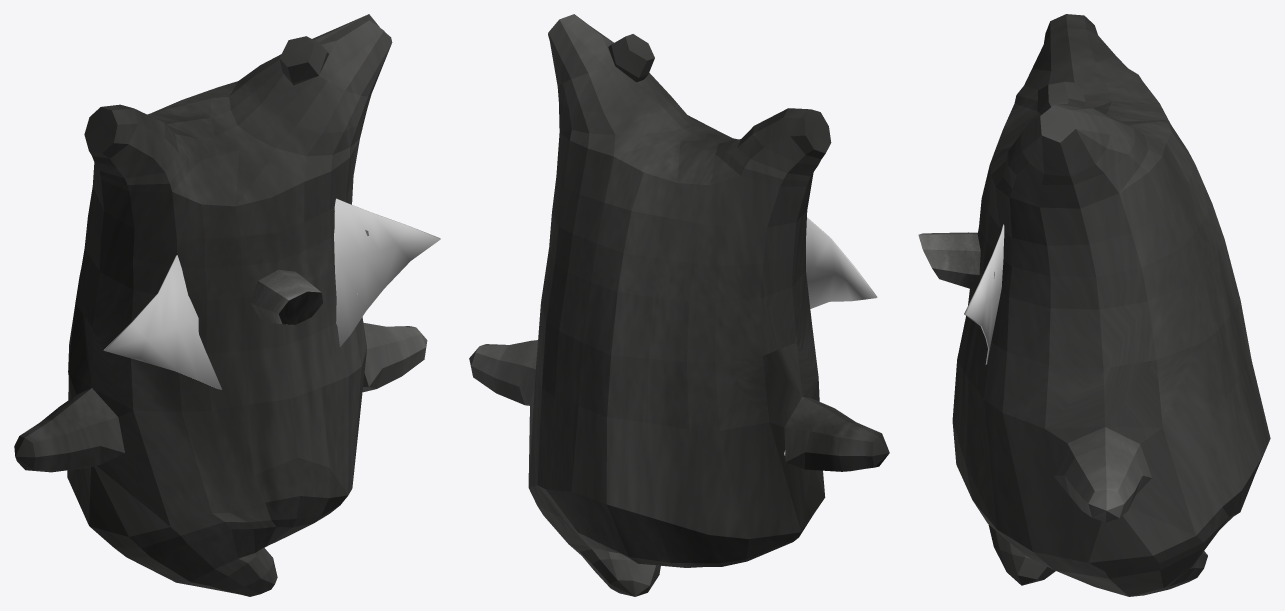
File: frame_0024.obj
3 views of the same model, side by side, from view 1: azimuth 30°, elevation 25°; view 2: azimuth 150°, elevation 25°; view 3: azimuth 270°, elevation 25° (orthographic). The views are drawn at different scales.
Visible parts, largest first — view 1: korok, leaf, nose; view 2: korok, leaf; view 3: korok, nose, leaf.
Part boxes in pixels (bbox=[...]): korok: bbox=[14, 14, 427, 596]; leaf: bbox=[103, 198, 440, 389]; nose: bbox=[250, 269, 322, 324]; korok: bbox=[469, 14, 889, 596]; leaf: bbox=[806, 217, 877, 308]; korok: bbox=[952, 14, 1270, 596]; nose: bbox=[918, 232, 980, 289]; leaf: bbox=[964, 224, 1004, 364].
Bounding box in the file's own units: 1.78 × 2.13 × 1.26.
